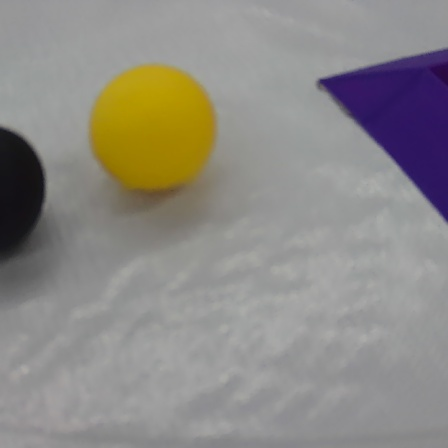black: (4, 120, 50, 279)
yellow: (78, 58, 221, 203)
